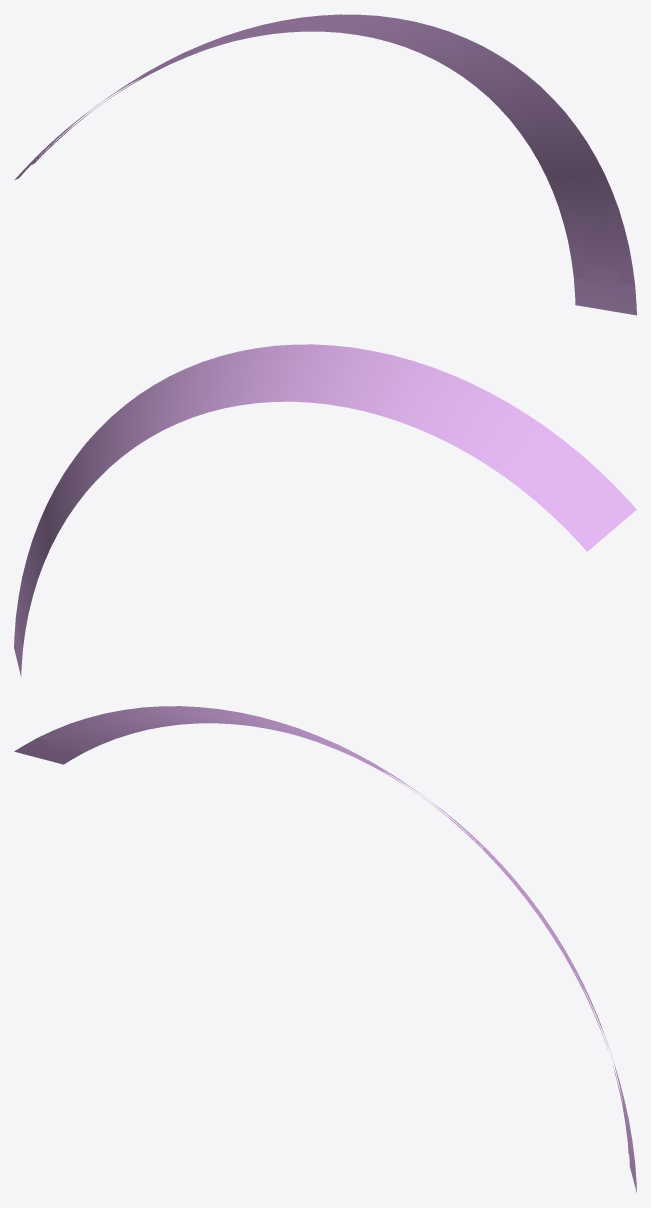
The model's file is Mesh_Note_22.fbx.
3 views of the same model, one above another, from view 1: azimuth 30°, elevation 25°; view 2: azimuth 150°, elevation 25°; view 3: azimuth 330°, elevation 25° (orthographic).
Visible parts, largest first — view 1: Mesh_Note_22; view 2: Mesh_Note_22; view 3: Mesh_Note_22.
Part boxes in pixels (x1,y1,x2,y2): Mesh_Note_22: (14,14,636,315); Mesh_Note_22: (14,344,636,676); Mesh_Note_22: (14,706,636,1192).
Size of the model in its own units: 2.93 by 1.74 by 0.2235.
